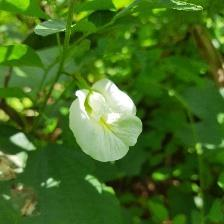shankupushpam: (67, 74, 147, 167)
